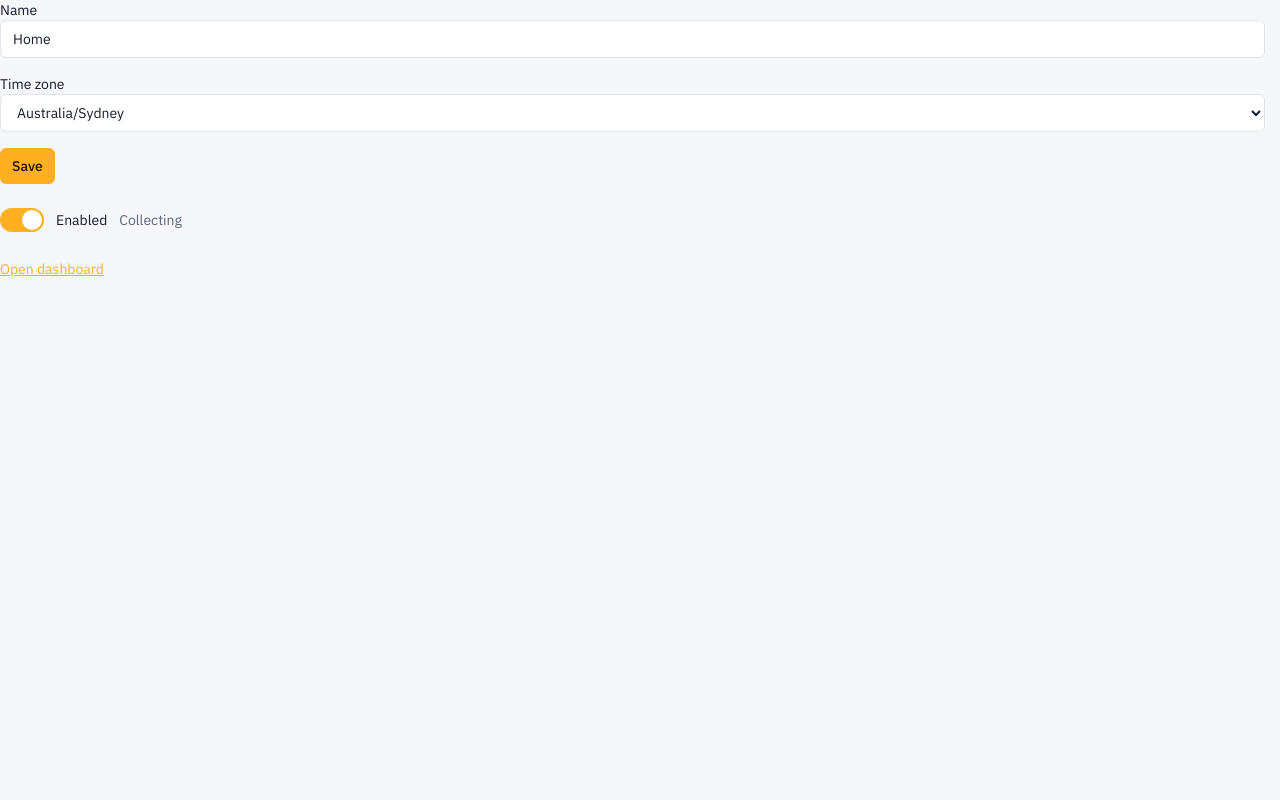
Test: GeneralTab › sends nothing when the confirmation is cancelled
Click the switch named "Enabled". click: point(22, 220)
box: [0,208,44,232]
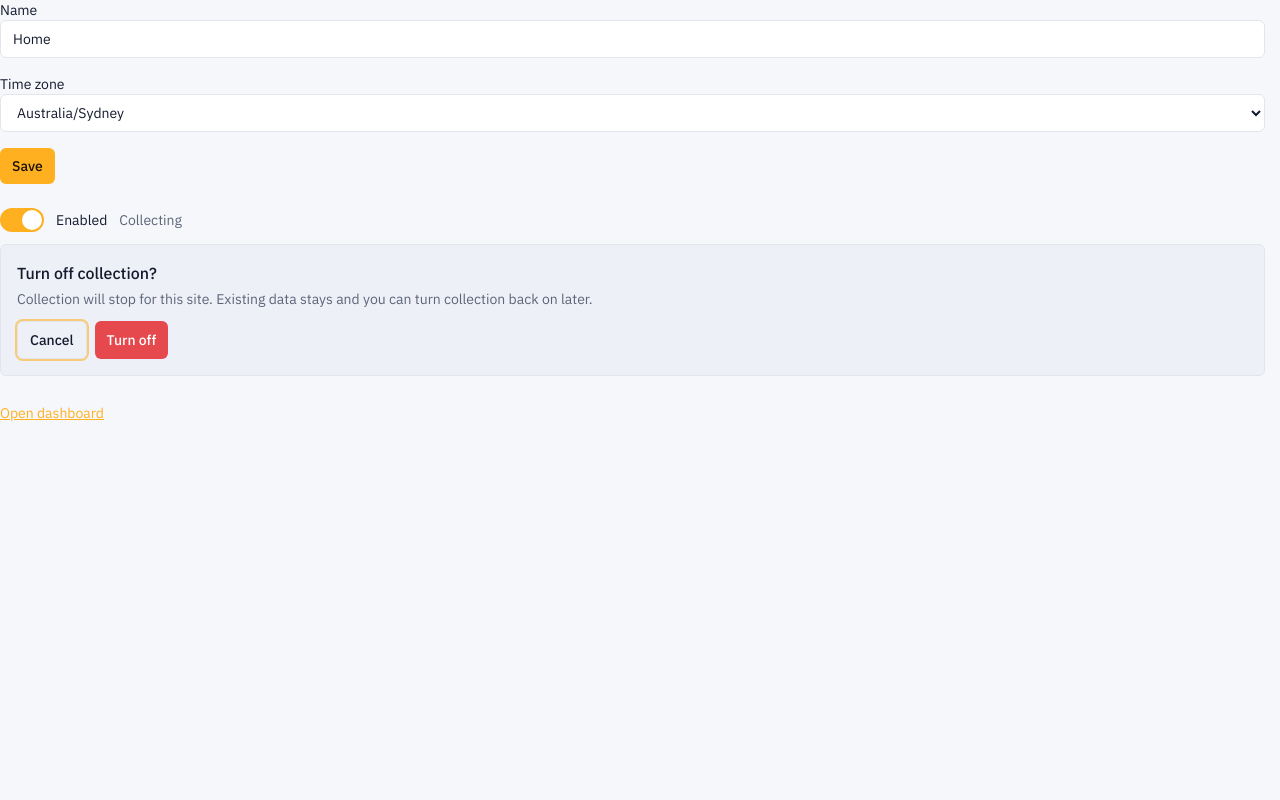
Click the button "Cancel". click: point(52, 340)
box: [17,321,86,359]
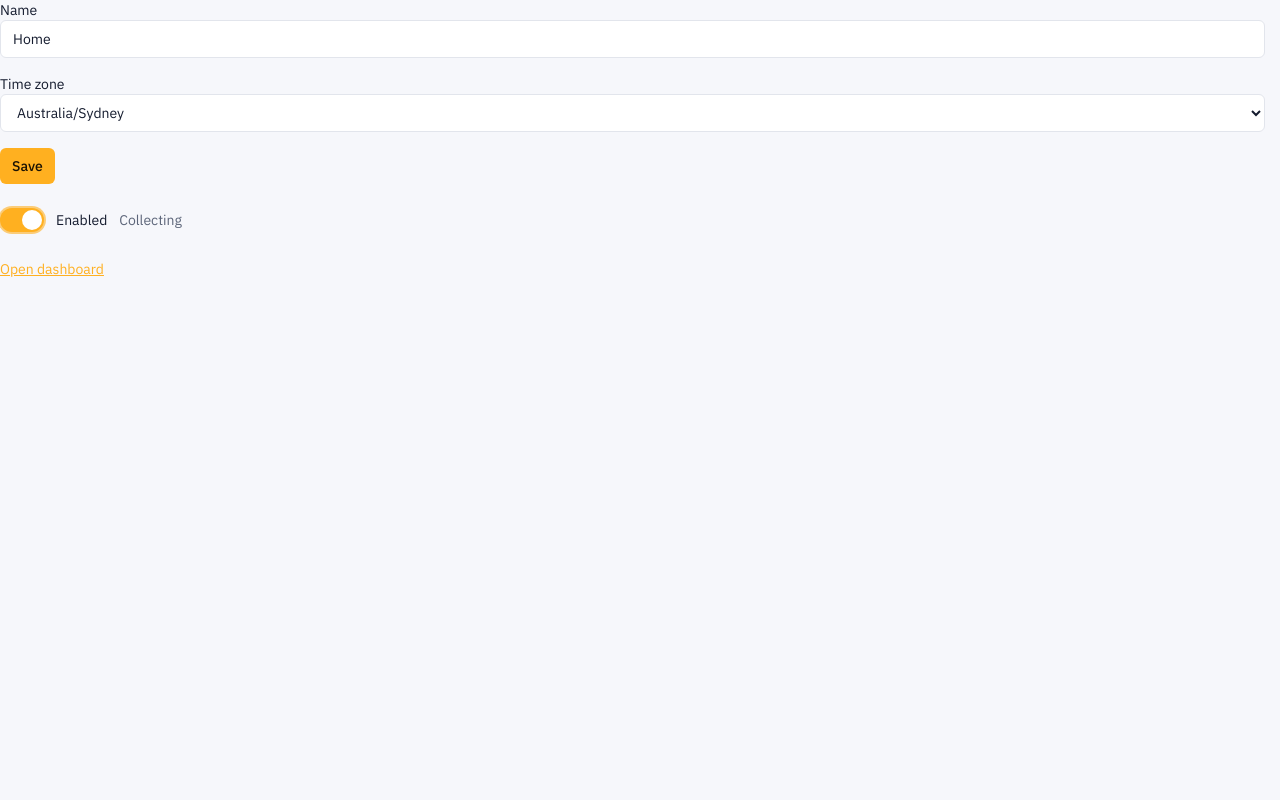
Result: the dialog is gone
